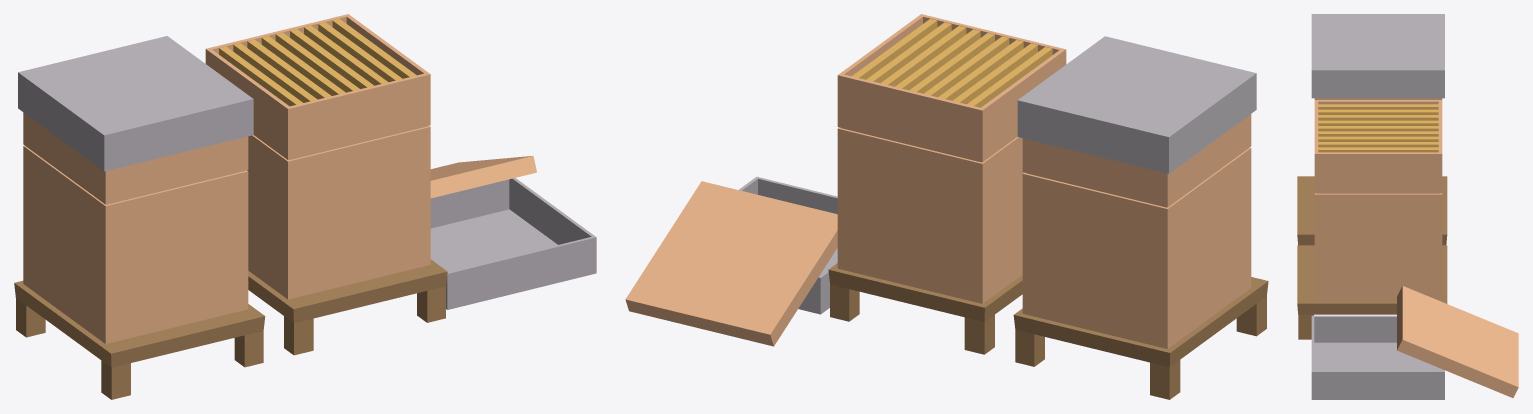
The model's file is mod_bg_ruche.fbx.
The picture shows the model from 3 angles, left to right: view 1: azimuth 30°, elevation 25°; view 2: azimuth 150°, elevation 25°; view 3: azimuth 270°, elevation 25°; orthographic projection. The views are drawn at different scales.
Visible parts, largest first — view 1: ruche; view 2: ruche; view 3: ruche.
Boxes of the visible parts, left/top/right/bottom form: ruche: left=14, top=14, right=596, bottom=399; ruche: left=625, top=14, right=1268, bottom=399; ruche: left=1297, top=14, right=1518, bottom=399.
Size of the model in its own units: 339 by 169 by 170.
